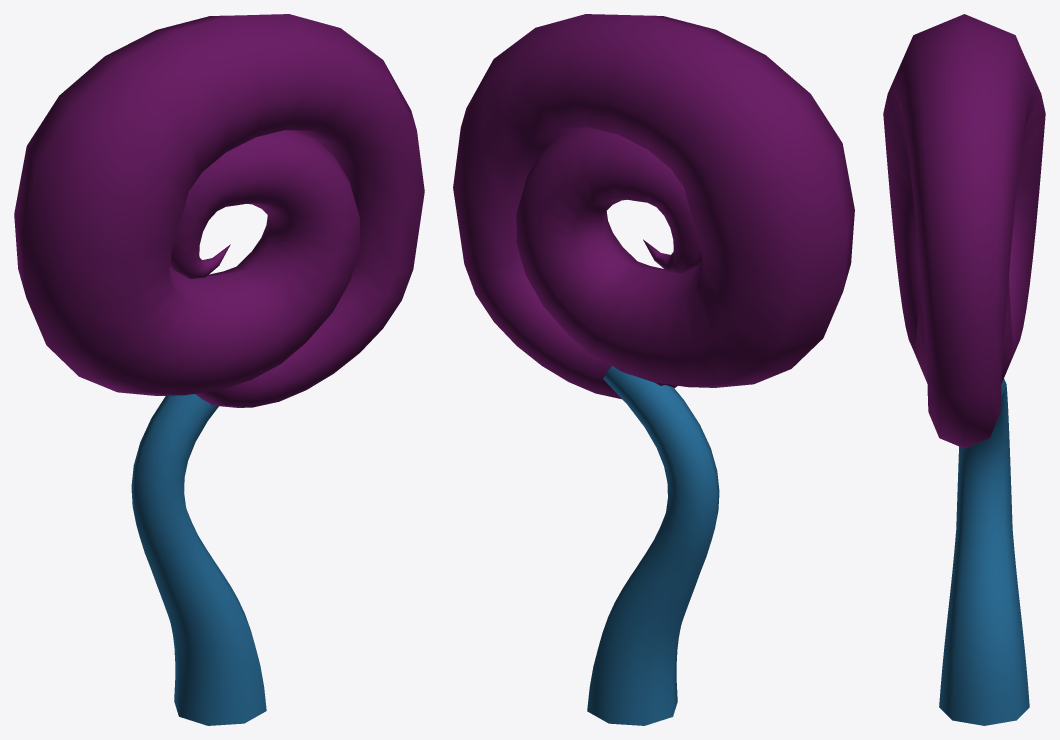
The model's file is Tree Swirl 2.glb.
3 views of the same model, side by side, from view 1: azimuth 30°, elevation 25°; view 2: azimuth 150°, elevation 25°; view 3: azimuth 270°, elevation 25° (orthographic). The views are drawn at different scales.
Parts seen in each view (by area): view 1: Tree_Swirl_2; view 2: Tree_Swirl_2; view 3: Tree_Swirl_2.
Part boxes in pixels (<box>): Tree_Swirl_2: <box>14,14,424,725</box>; Tree_Swirl_2: <box>453,14,854,725</box>; Tree_Swirl_2: <box>883,14,1045,725</box>.
Size of the model in its own units: 3.07 by 5.15 by 1.15.
Materials: 1 (1 with a texture image).
